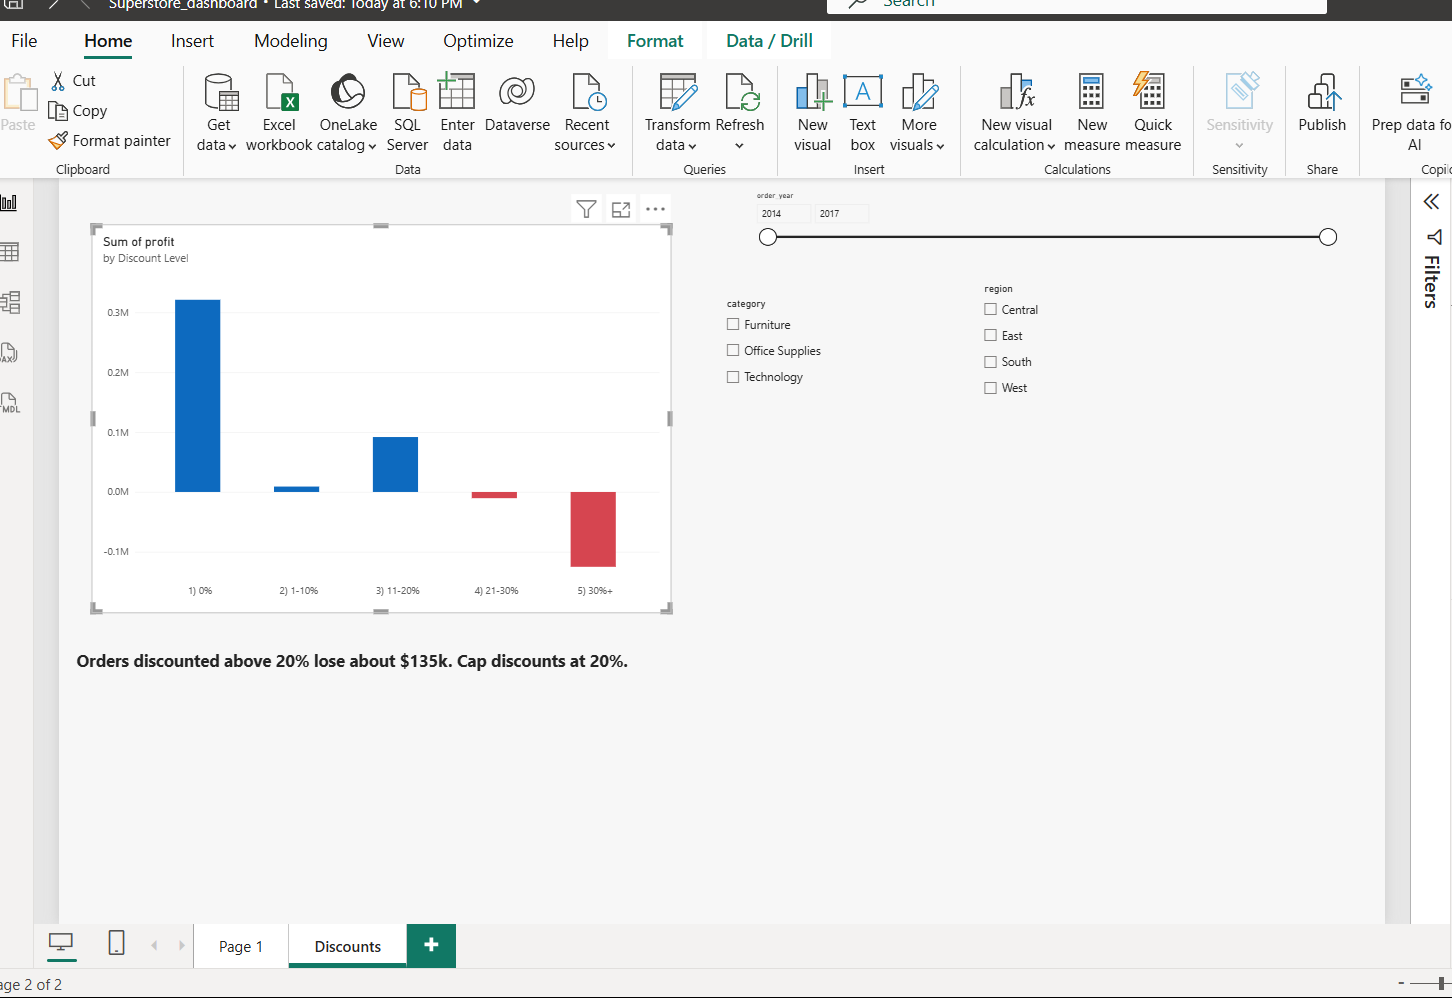

The dashboard page shown, as its layout file describes it:
{"tool":"powerbi","page":{"name":"Discounts","canvas":[1920,1080],"ordinal":1},"visuals":[{"type":"clusteredColumnChart","fields":{"Category":["superstore_clean.Discount Level"],"Y":["Sum(superstore_clean.profit)"]},"box":[47.1,67,839.7,562.8],"z":0},{"type":"textbox","box":[16.3,682.2,816.2,56.1],"z":1},{"type":"slicer","fields":{"Values":["superstore_clean.order_year"]},"box":[1002.6,18.1,850.5,97.7],"z":2},{"type":"slicer","fields":{"Values":["superstore_clean.category"]},"box":[959.1,173.7,196.2,211.3],"z":3},{"type":"slicer","fields":{"Values":["superstore_clean.region"]},"box":[1331.9,152,190.6,234],"z":4}]}

Visuals, with their boxes on the page's 1920x1080 design canvas (x1, y1, x2, y2). These are canvas units, not pixel positions in the 1452x998 screenshot, which may show the page scaled, cropped or inside an application window:
clusteredColumnChart - superstore_clean.Discount Level x Sum(superstore_clean.profit): Rect(47, 67, 887, 630)
textbox: Rect(16, 682, 832, 738)
slicer - superstore_clean.order_year: Rect(1003, 18, 1853, 116)
slicer - superstore_clean.category: Rect(959, 174, 1155, 385)
slicer - superstore_clean.region: Rect(1332, 152, 1522, 386)
